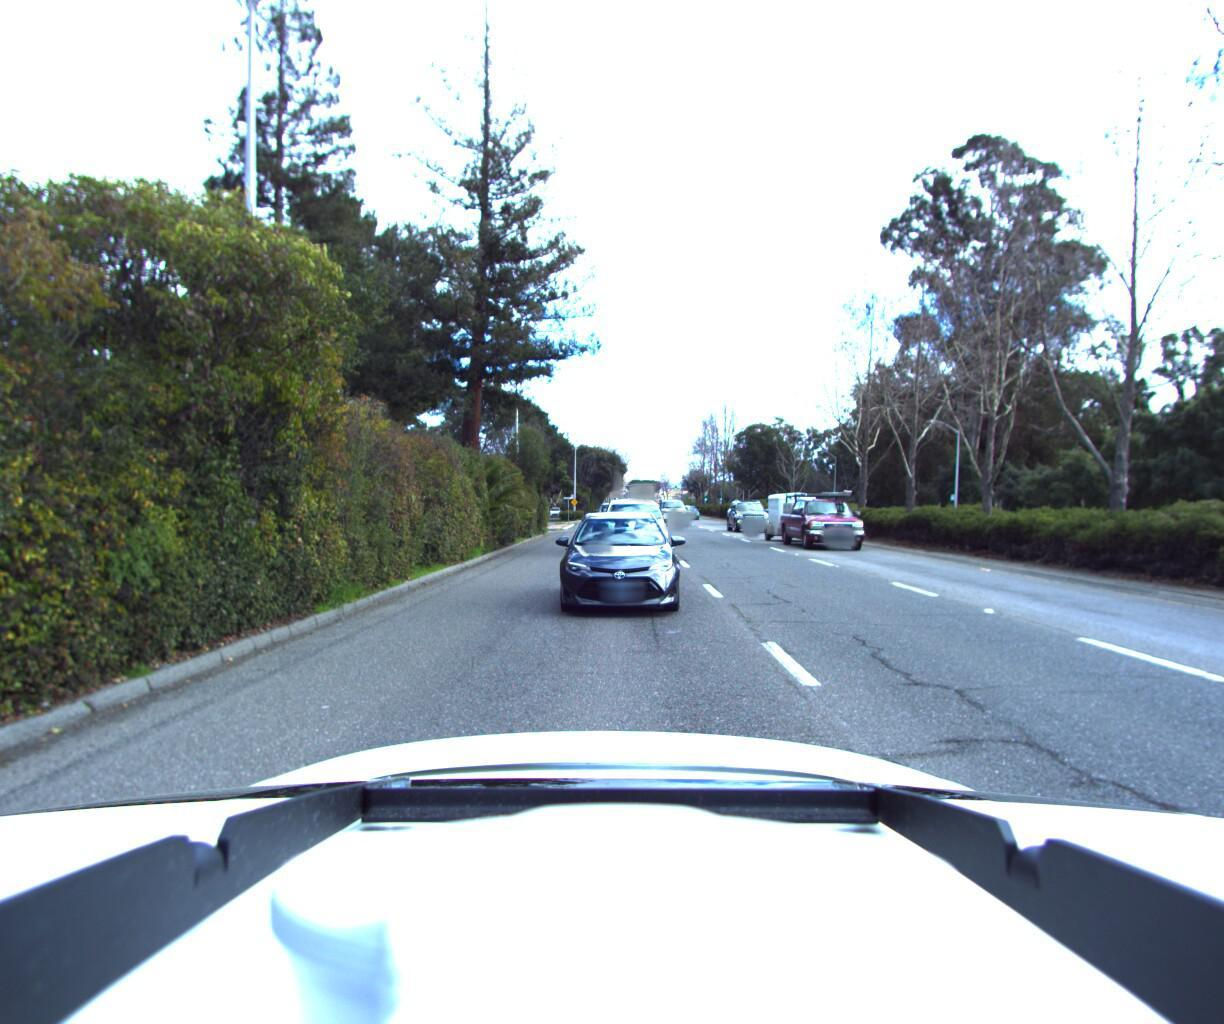car: (545, 509, 680, 623), (763, 486, 880, 557), (602, 500, 670, 561), (723, 502, 774, 537), (658, 503, 692, 530), (681, 505, 703, 522)
